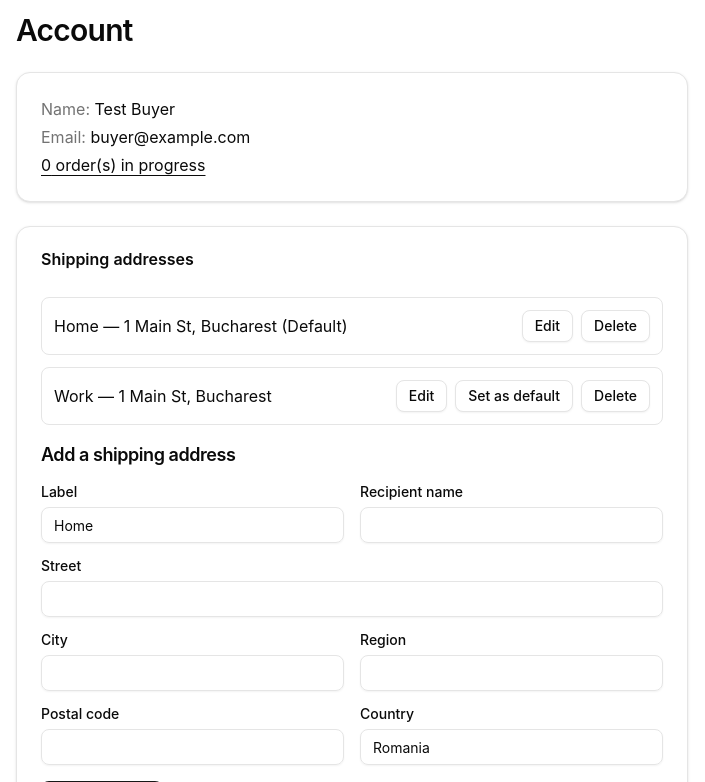
Test: AccountPage › deletes an address
This screenshot has width=705, height=782.
Expected: the text "Work — 1 Main St, Bucharest" is shown, x1=54 y1=384 x2=272 y2=408
What coordinates should you click on to do the following:
click the button "Delete" in the row of "Work"
I would click on:
 (616, 396)
Its box is x1=581 y1=380 x2=650 y2=412.
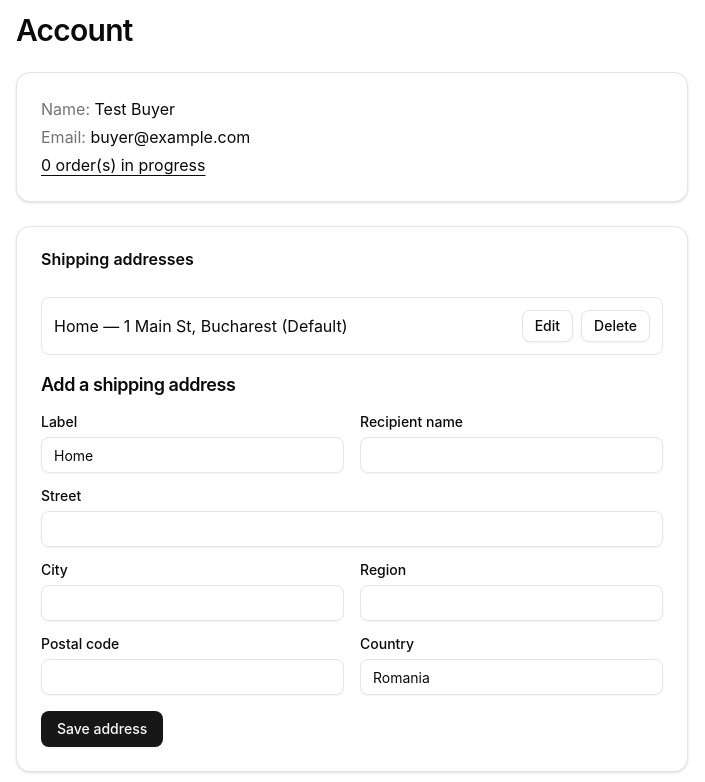
Expected: the text "Work — 1 Main St, Bucharest" is gone
